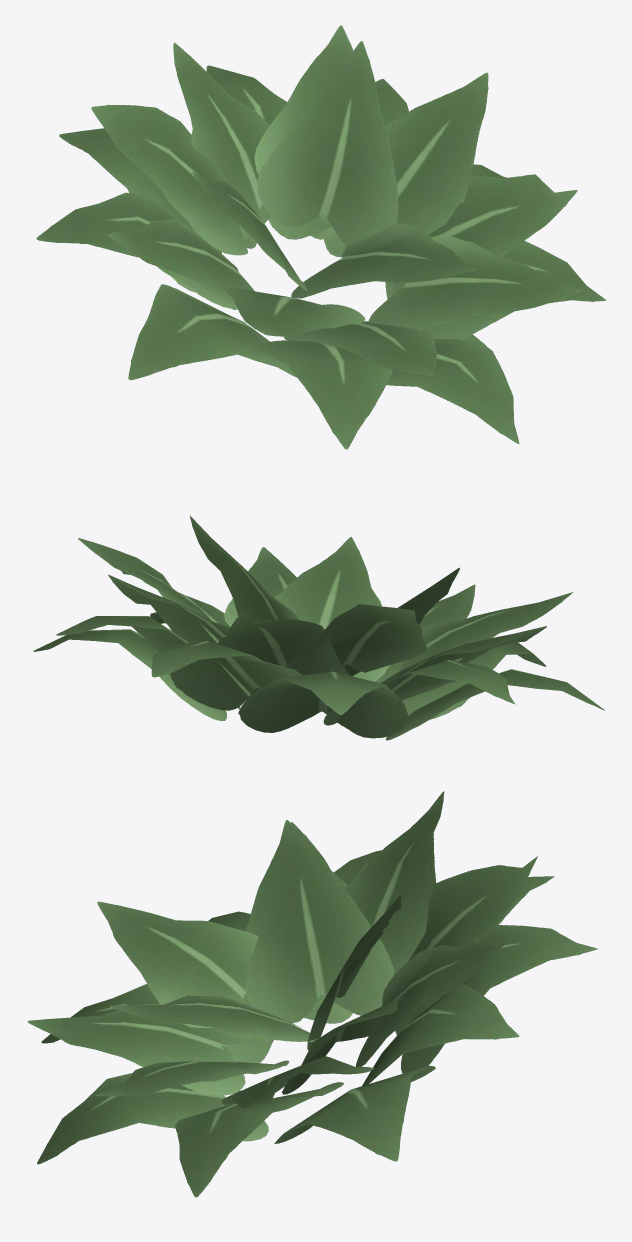
File: plant_1.glb
3 views of the same model, one above another, from view 1: azimuth 30°, elevation 25°; view 2: azimuth 150°, elevation 25°; view 3: azimuth 270°, elevation 25° (orthographic). The views are drawn at different scales.
Parts seen in each view (by area): view 1: Plant_1; view 2: Plant_1; view 3: Plant_1.
Part boxes in pixels (x1,y1,x2,y2): Plant_1: [36, 25, 606, 449]; Plant_1: [33, 515, 604, 740]; Plant_1: [27, 791, 597, 1197].
Bounding box in the file's own units: 1.24 × 0.6862 × 1.2.
1 material, 1 textured.
